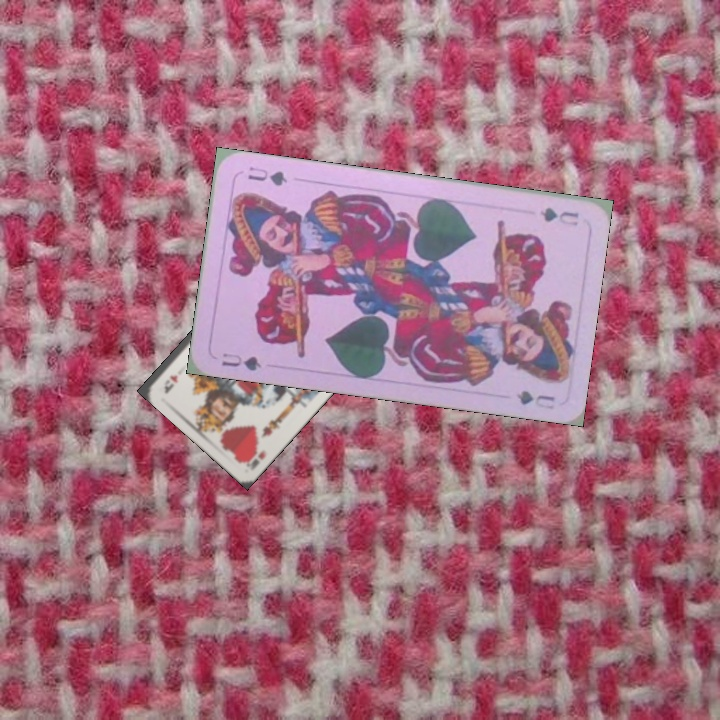GU: (217, 349, 264, 374), (536, 203, 581, 229)
HK: (241, 444, 268, 473)
